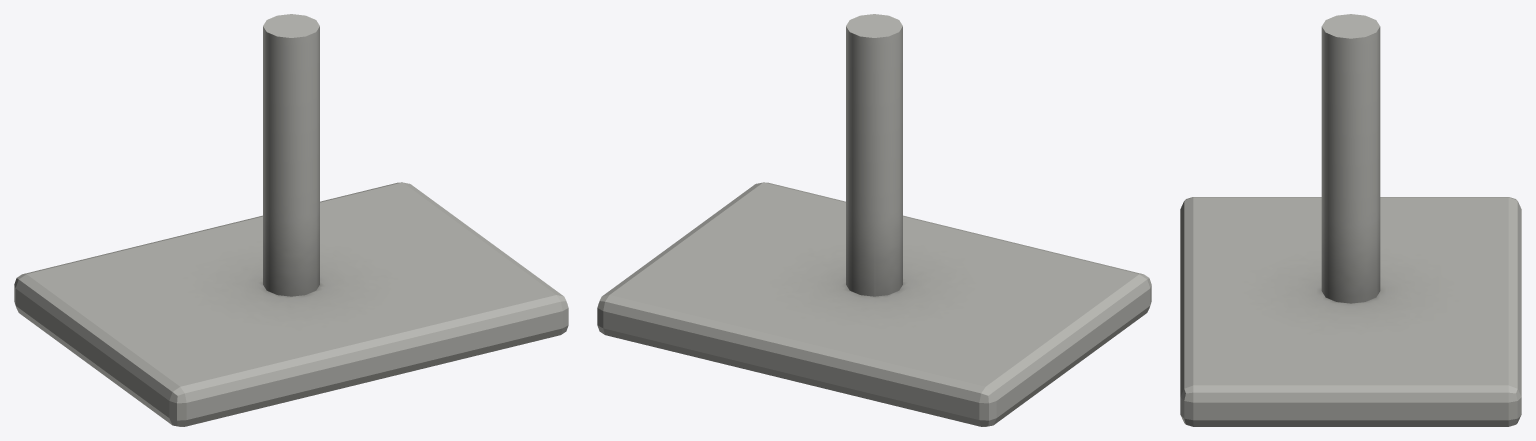
File: plywood_press_plate.glb
3 views of the same model, side by side, from view 1: azimuth 30°, elevation 25°; view 2: azimuth 150°, elevation 25°; view 3: azimuth 270°, elevation 25° (orthographic). The views are drawn at different scales.
Parts seen in each view (by area): view 1: plywood_press_plate; view 2: plywood_press_plate; view 3: plywood_press_plate.
Boxes of the visible parts, x1=… form: plywood_press_plate: x1=14, y1=14, x2=568, y2=426; plywood_press_plate: x1=597, y1=14, x2=1151, y2=426; plywood_press_plate: x1=1180, y1=14, x2=1521, y2=426.
Bounding box in the file's own units: 1.45 × 1.04 × 1.05.
1 material, 1 textured.
